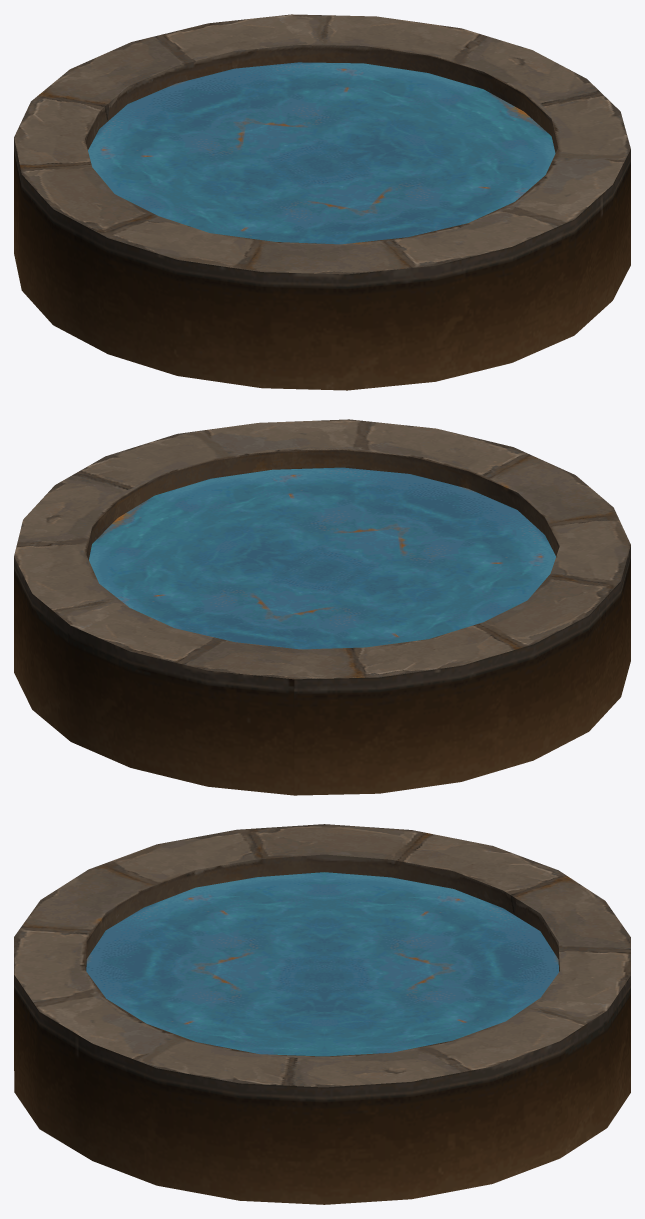
The model's file is yj_shuichi_1.FBX.
The picture shows the model from 3 angles, top to bottom: view 1: azimuth 30°, elevation 25°; view 2: azimuth 150°, elevation 25°; view 3: azimuth 270°, elevation 25°; orthographic projection.
Visible parts, largest first — view 1: yj_shuichi_1; view 2: yj_shuichi_1; view 3: yj_shuichi_1.
Boxes of the visible parts, left/top/right/bottom form: yj_shuichi_1: left=14, top=14, right=630, bottom=390; yj_shuichi_1: left=14, top=419, right=630, bottom=795; yj_shuichi_1: left=14, top=824, right=630, bottom=1204.
Bounding box in the file's own units: 3881 × 807 × 3842.
